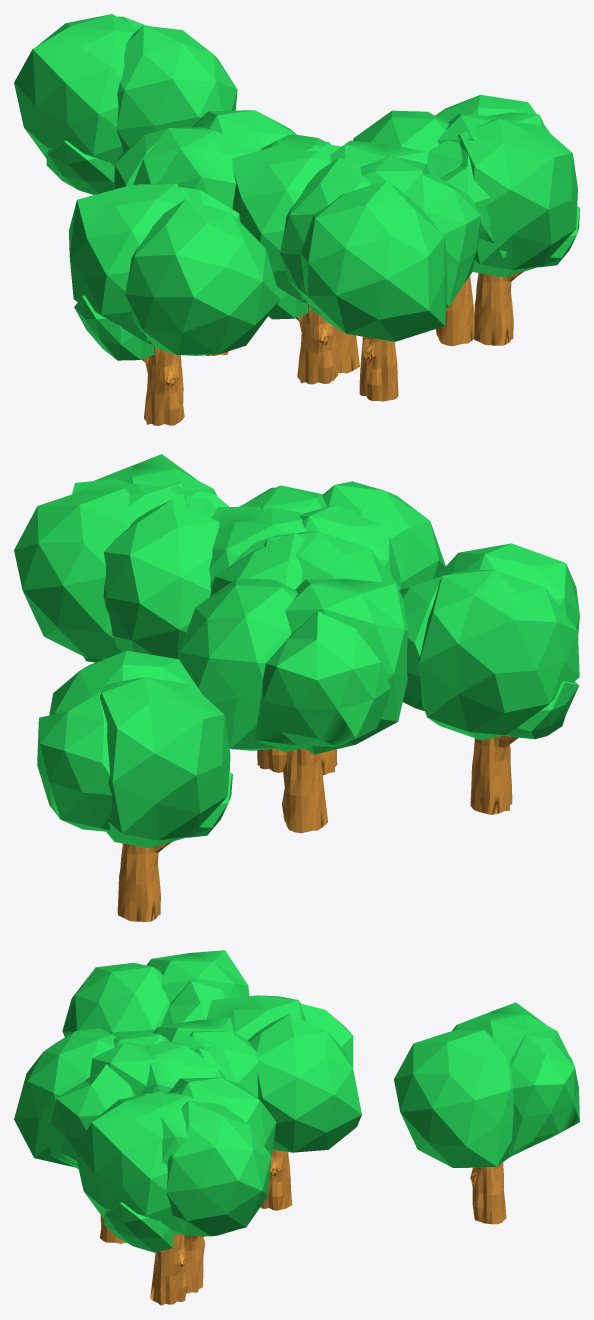
The model's file is tree_level3.glb.
The picture shows the model from 3 angles, top to bottom: view 1: azimuth 30°, elevation 25°; view 2: azimuth 150°, elevation 25°; view 3: azimuth 270°, elevation 25°; orthographic projection. The views are drawn at different scales.
Visible parts, largest first — view 1: Cylinder.005, Cylinder.006, Cylinder.001, Cylinder.003, Cylinder.004, Cylinder.002, Cylinder.008, Cylinder.007; view 2: Cylinder.002, Cylinder.001, Cylinder.005, Cylinder.003, Cylinder.008, Cylinder.007, Cylinder.004, Cylinder.006; view 3: Cylinder.001, Cylinder.003, Cylinder.002, Cylinder.006, Cylinder.005, Cylinder.008, Cylinder.007, Cylinder.004.
Part boxes in pixels (<box>): Cylinder.005: <box>69,183,280,425</box>; Cylinder.006: <box>300,155,480,401</box>; Cylinder.001: <box>14,14,237,194</box>; Cylinder.003: <box>428,94,579,345</box>; Cylinder.004: <box>232,142,371,384</box>; Cylinder.002: <box>113,110,296,355</box>; Cylinder.008: <box>353,110,546,346</box>; Cylinder.007: <box>260,134,435,373</box>; Cylinder.002: <box>180,578,408,833</box>; Cylinder.001: <box>37,650,232,921</box>; Cylinder.005: <box>399,543,579,814</box>; Cylinder.003: <box>14,454,217,658</box>; Cylinder.008: <box>72,478,228,662</box>; Cylinder.007: <box>209,506,308,772</box>; Cylinder.004: <box>210,505,401,775</box>; Cylinder.006: <box>239,481,445,588</box>; Cylinder.001: <box>394,1002,579,1224</box>; Cylinder.003: <box>75,1091,271,1305</box>; Cylinder.002: <box>206,995,361,1210</box>; Cylinder.006: <box>14,1028,156,1243</box>; Cylinder.005: <box>62,950,249,1036</box>; Cylinder.008: <box>144,1077,276,1293</box>; Cylinder.007: <box>141,1030,258,1098</box>; Cylinder.004: <box>113,1017,234,1080</box>.
Size of the model in its own units: 1.58 by 0.7091 by 1.85.
